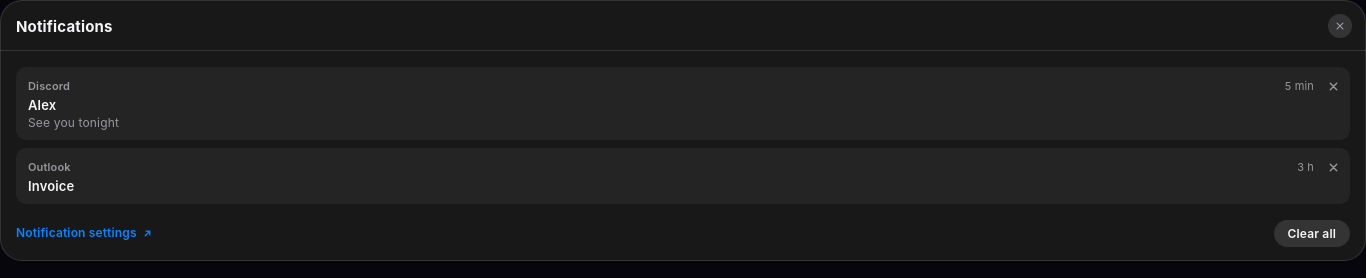
Test: clear all empties the list
Click the button "Clear all" at coordinates (1312, 234), box [1274,220,1350,247]
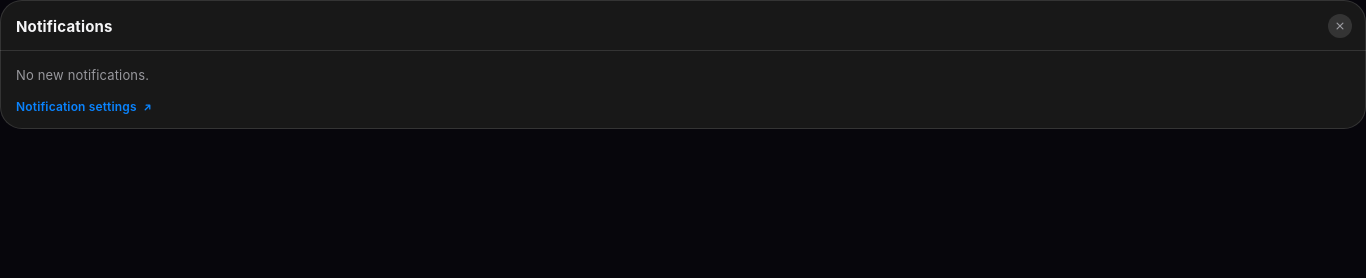
Check: the text "No new notifications." is shown, box [16,67,149,83]
